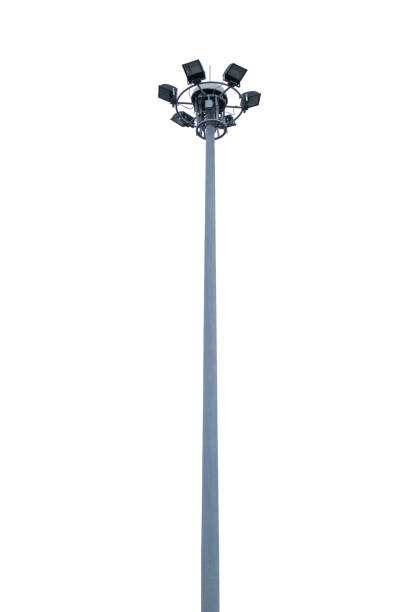light_pole: (198, 125, 222, 610)
